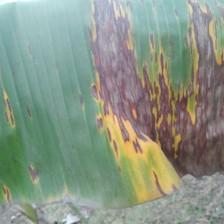sigatoka: (0, 0, 224, 208)
